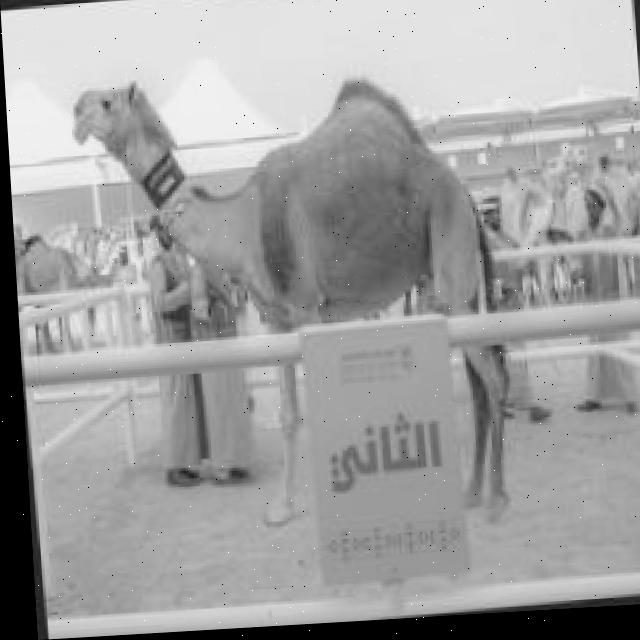Camel: (66, 57, 520, 546), (14, 227, 104, 355)
